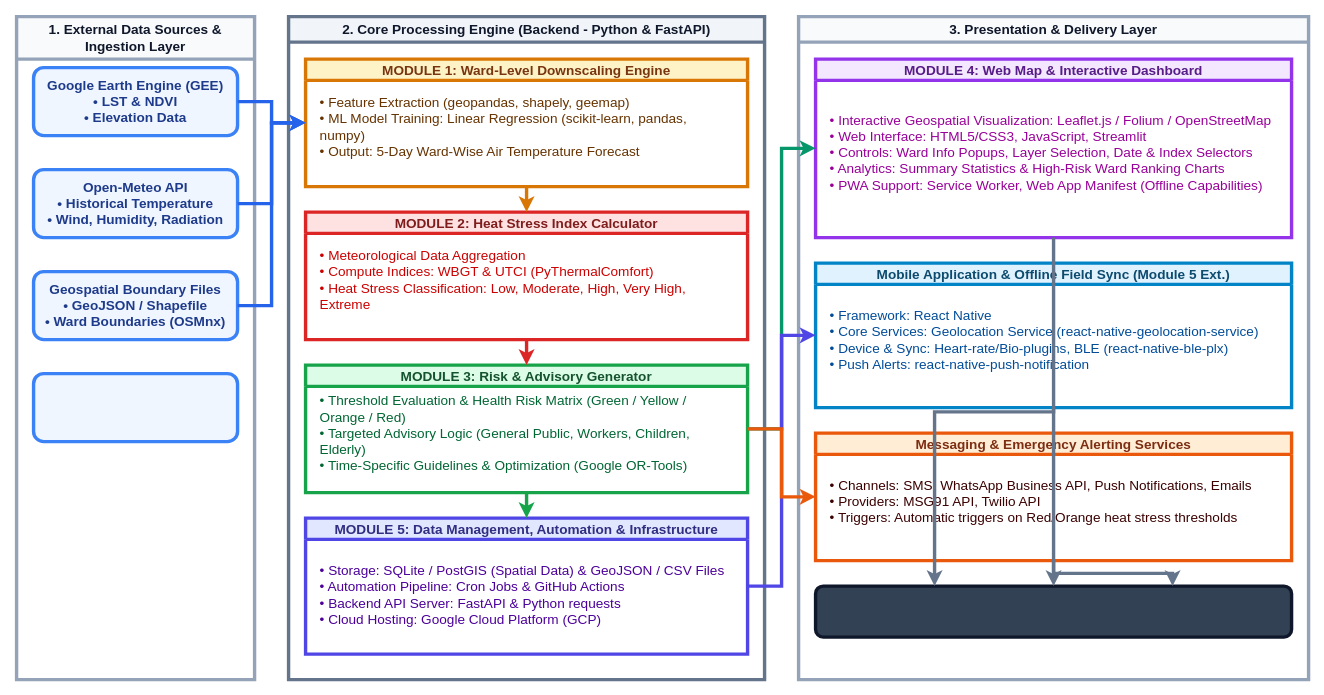
This 1324x695 diagram has some shape labels left out. Here are the shapes that lost their labels. From the top down, the centre of each, then its label:
pixel 135 407: Data Collection • Google Forms & Sheets • gspread Integration
pixel 1053 611: End-User Stakeholders (Citizens, Field Workers, Municipal Authorities)
